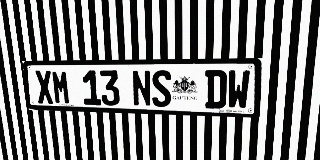1: (81, 70, 101, 105)
3: (100, 70, 120, 106)
D: (205, 70, 227, 109)
M: (51, 70, 71, 104)
N: (131, 70, 152, 107)
S: (151, 70, 172, 107)
W: (227, 70, 250, 109)
X: (34, 70, 54, 104)
